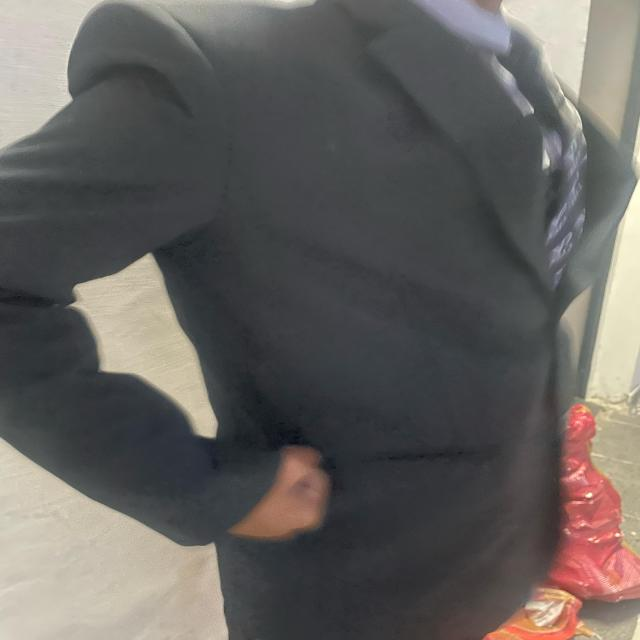Tie: (496, 27, 589, 293)
uniform: (1, 0, 592, 639)
